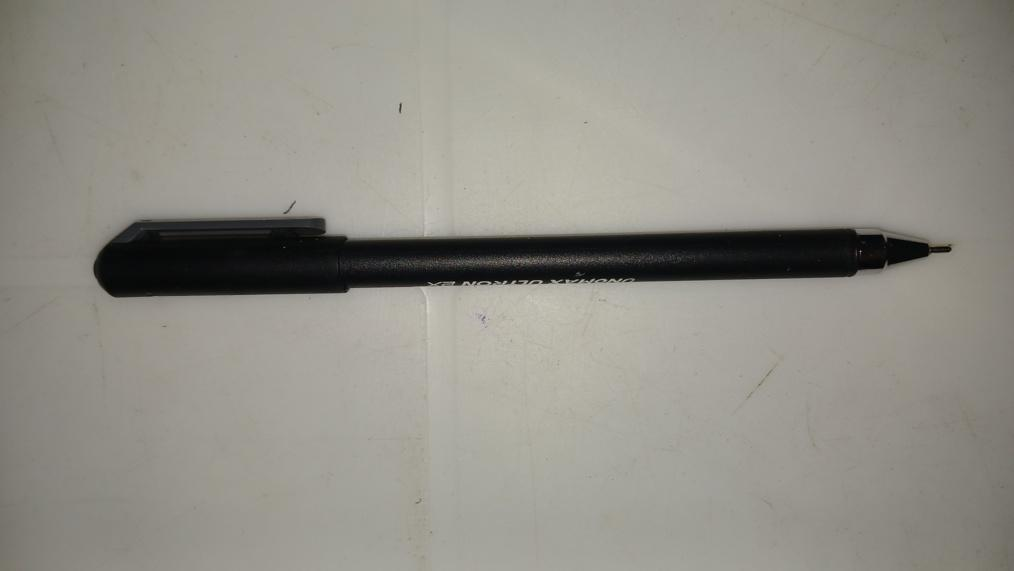pen: (96, 216, 957, 298)
